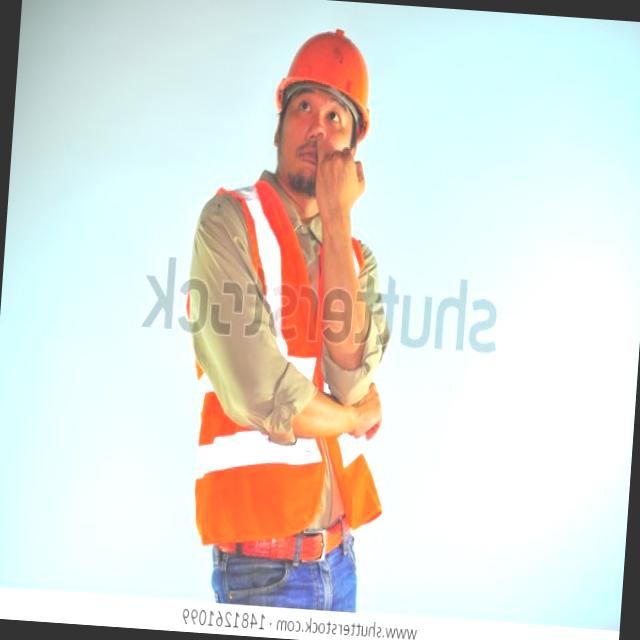helmet: (274, 19, 376, 144)
no-goggles: (281, 86, 360, 134)
vest: (164, 167, 410, 568)
